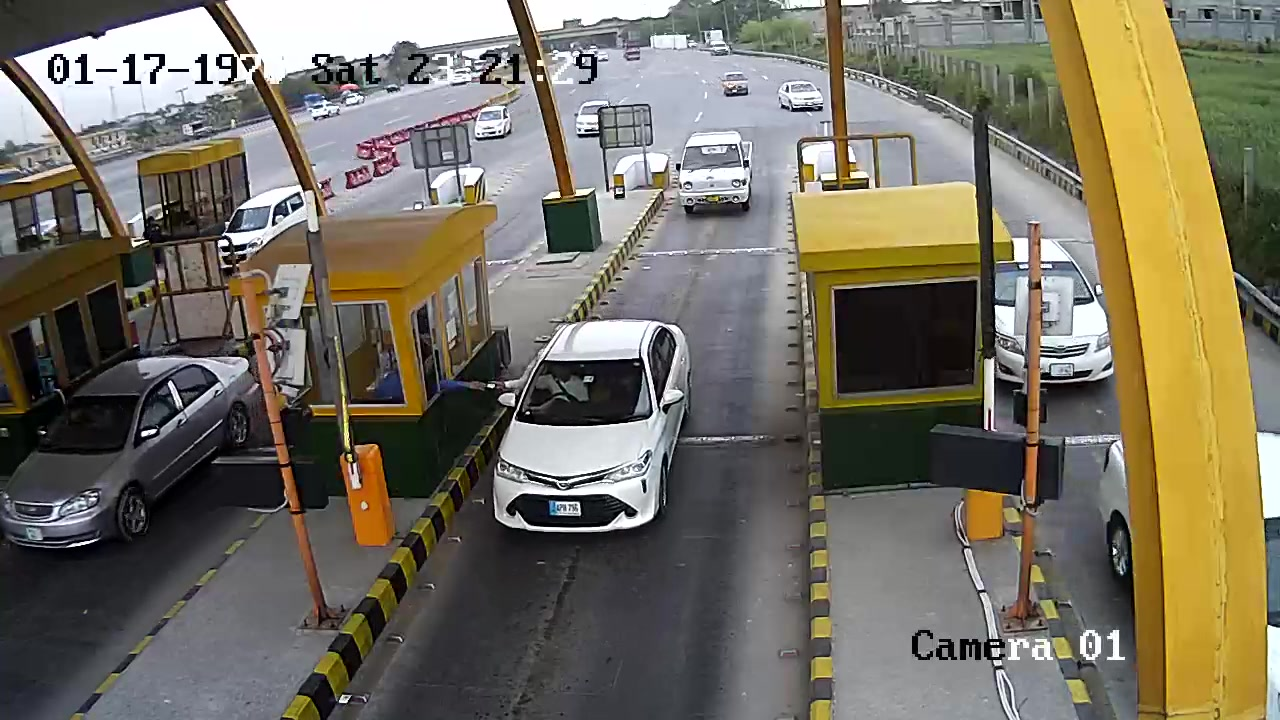F1: (486, 306, 703, 552)
